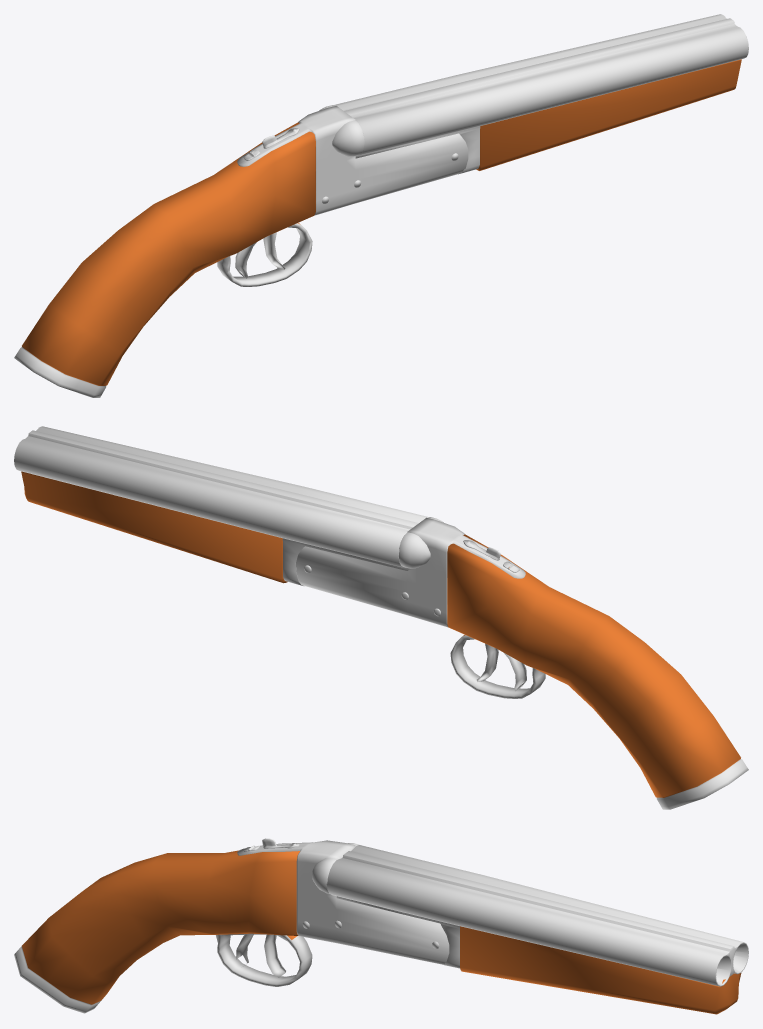
The model's file is shotgun.glb.
3 renders of one model, top to bottom at view 1: azimuth 30°, elevation 25°; view 2: azimuth 150°, elevation 25°; view 3: azimuth 330°, elevation 25°, orthographic.
Visible parts, largest first — view 1: Circle.004_Circle.001, Cylinder, Cylinder.007_Cylinder.008; view 2: Circle.004_Circle.001, Cylinder, Cylinder.007_Cylinder.008; view 3: Circle.004_Circle.001, Cylinder, Cylinder.007_Cylinder.008.
Part boxes in pixels (box(x1,y1,x2,y2)): Circle.004_Circle.001: box(14, 105, 468, 397); Cylinder: box(334, 14, 748, 174); Cylinder.007_Cylinder.008: box(235, 232, 285, 278); Circle.004_Circle.001: box(296, 517, 748, 809); Cylinder: box(14, 426, 428, 586); Cylinder.007_Cylinder.008: box(477, 643, 526, 691); Circle.004_Circle.001: box(14, 838, 449, 1013); Cylinder: box(326, 845, 748, 1014); Cylinder.007_Cylinder.008: box(236, 934, 285, 977).
Bounding box in the file's own units: 4.53 × 1.33 × 0.425.
